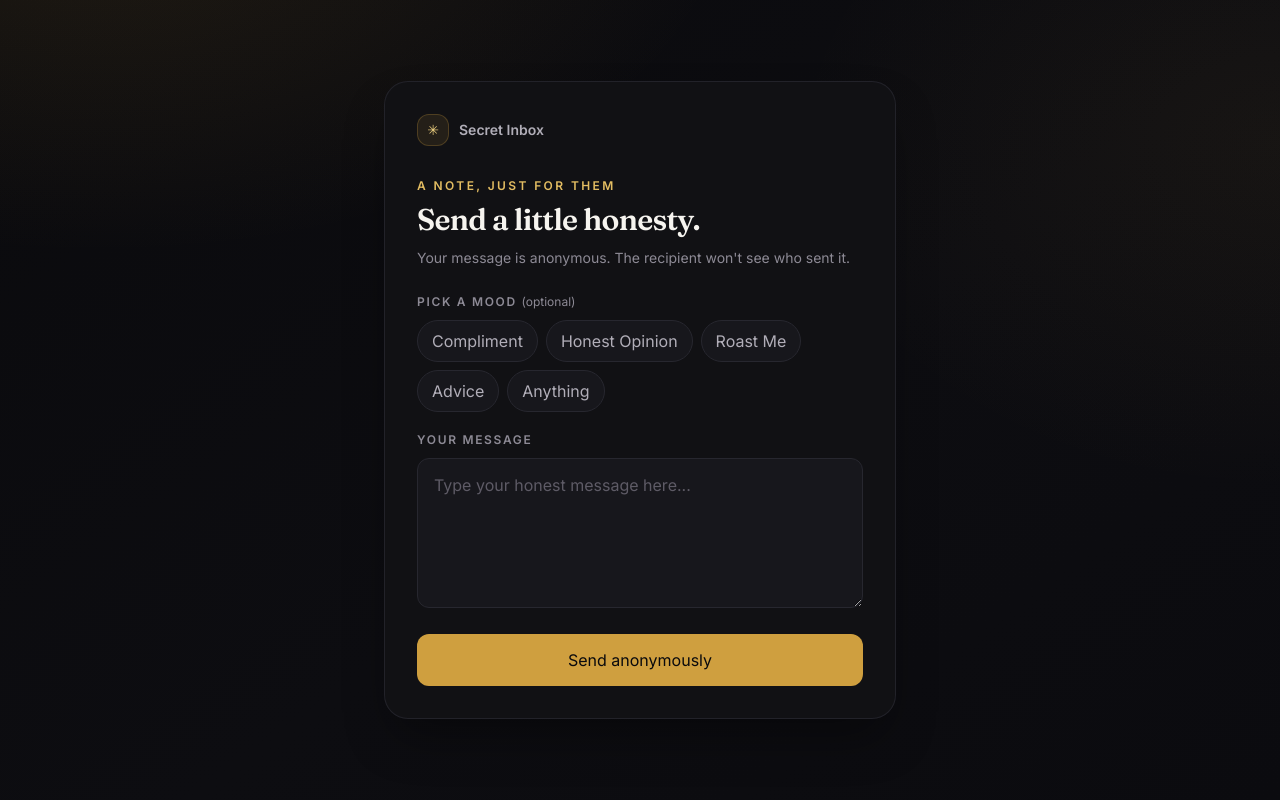
Test case: anonymous feedback form › shows API errors and keeps the form available after a rejected submission
Type "A note" into the text box labelled "Your message".
click(640, 533); type("A note")  # box [417,458,863,608]
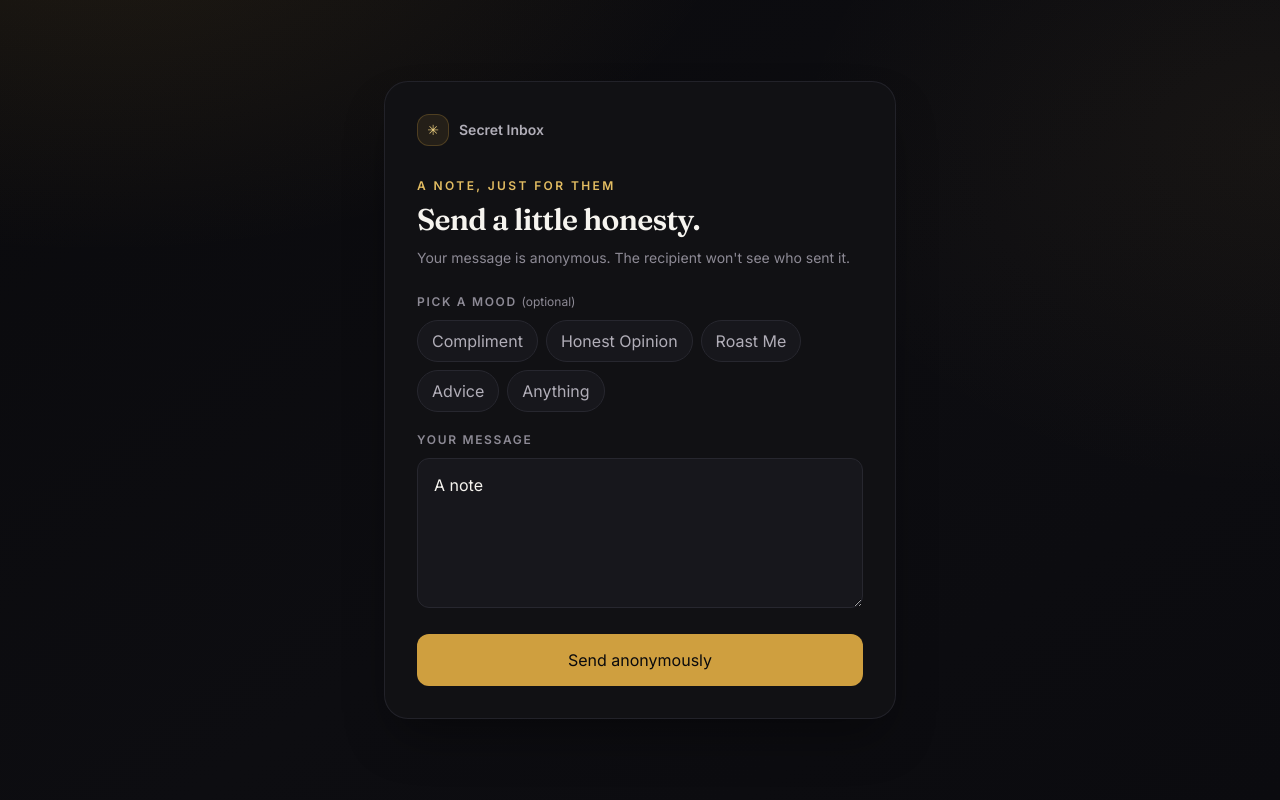
Click the button "Send anonymously".
click(640, 660)  # box [417,634,863,686]
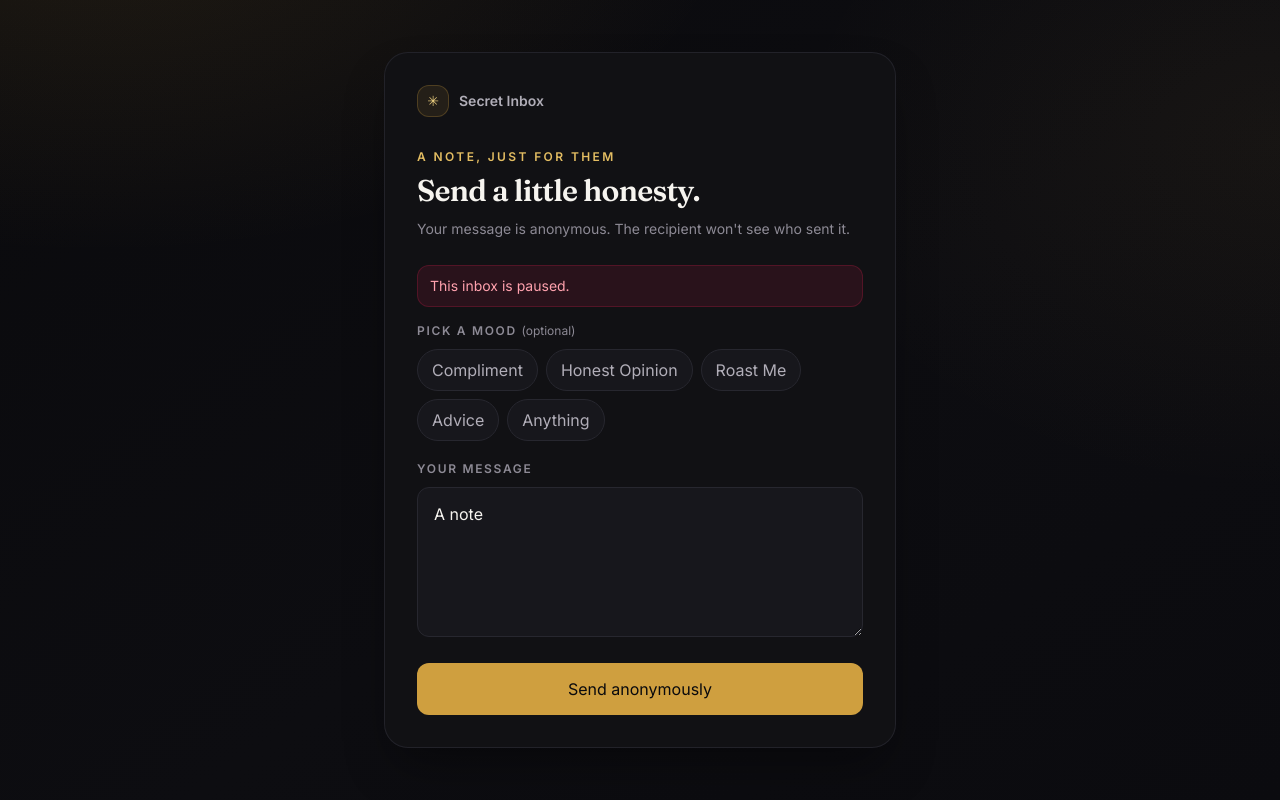
Expected: the button "Send anonymously" is shown, [417,663,863,715]
Result: the message reads "This inbox is paused." at [430,277,570,294]
